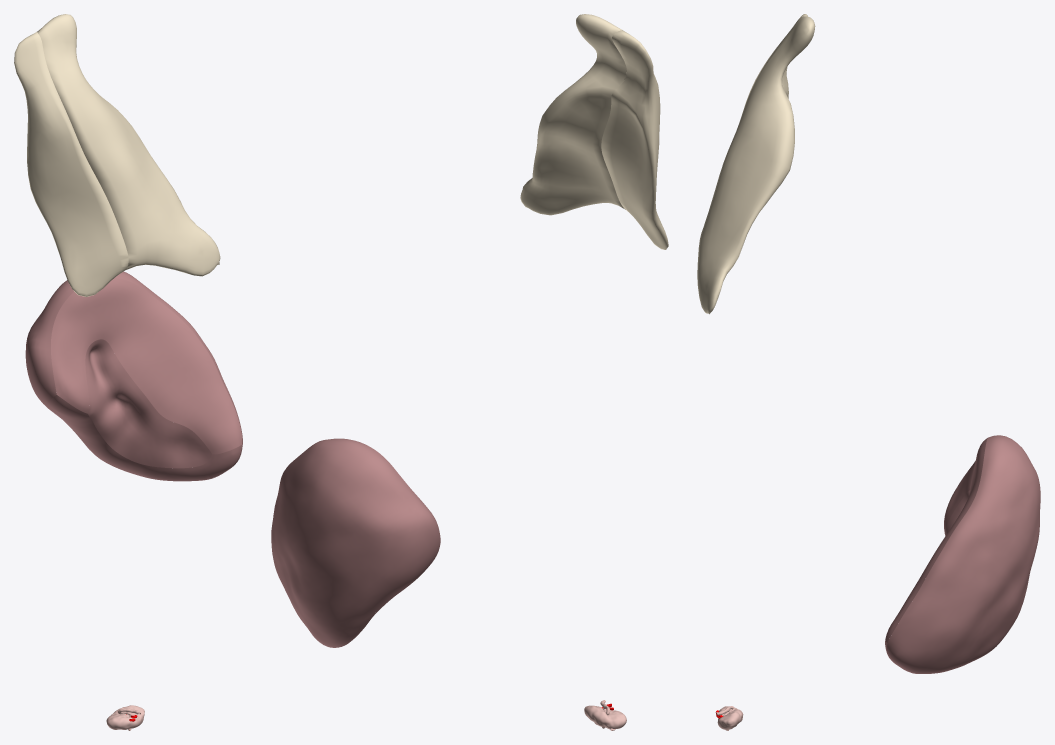
File: lymphatic-meshopt.glb
The picture shows the model from 3 angles, left to right: view 1: azimuth 30°, elevation 25°; view 2: azimuth 150°, elevation 25°; view 3: azimuth 270°, elevation 25°; orthographic projection. The views are drawn at different scales.
Visible parts, largest first — view 1: VH_F_gastric_surface_of_spleen, VH_F_thymus_lobe_L, VH_F_thymus_lobe_R, VH_F_hilum_of_spleen, VH_F_diaphragmatic_surface_of_spleen, VH_F_renal_surface_of_spleen, VH_F_colic_surface_of_spleen, Yao_capsule_of_lymph_node; view 2: VH_F_diaphragmatic_surface_of_spleen, VH_F_thymus_lobe_L, VH_F_thymus_lobe_R, Yao_capsule_of_lymph_node; view 3: VH_F_diaphragmatic_surface_of_spleen, VH_F_thymus_lobe_L, VH_F_gastric_surface_of_spleen.
Boxes of the visible parts, x1,y1,x2,y2 form: VH_F_gastric_surface_of_spleen: (51, 278, 242, 454); VH_F_thymus_lobe_L: (37, 14, 220, 276); VH_F_thymus_lobe_R: (14, 32, 128, 296); VH_F_hilum_of_spleen: (85, 339, 211, 468); VH_F_diaphragmatic_surface_of_spleen: (25, 271, 242, 481); VH_F_renal_surface_of_spleen: (46, 395, 210, 481); VH_F_colic_surface_of_spleen: (204, 445, 242, 478); Yao_capsule_of_lymph_node: (106, 705, 144, 729); VH_F_diaphragmatic_surface_of_spleen: (271, 438, 440, 647); VH_F_thymus_lobe_L: (520, 14, 626, 215); VH_F_thymus_lobe_R: (601, 30, 668, 249); Yao_capsule_of_lymph_node: (584, 705, 626, 729); VH_F_diaphragmatic_surface_of_spleen: (887, 435, 1040, 673); VH_F_thymus_lobe_L: (697, 16, 815, 314); VH_F_gastric_surface_of_spleen: (885, 438, 987, 642).
Bounding box in the file's own units: 0.147 × 0.3508 × 0.1565.
